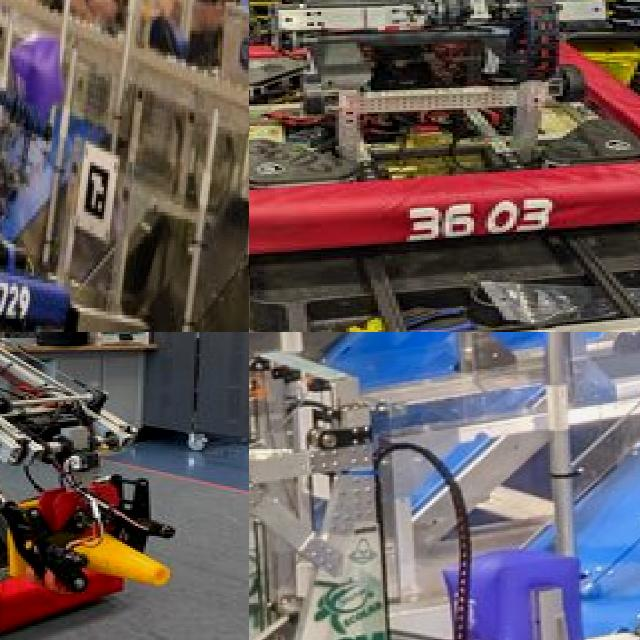FRC-Robots: (249, 346, 640, 640), (249, 0, 640, 264), (0, 332, 226, 640), (0, 0, 84, 332)
